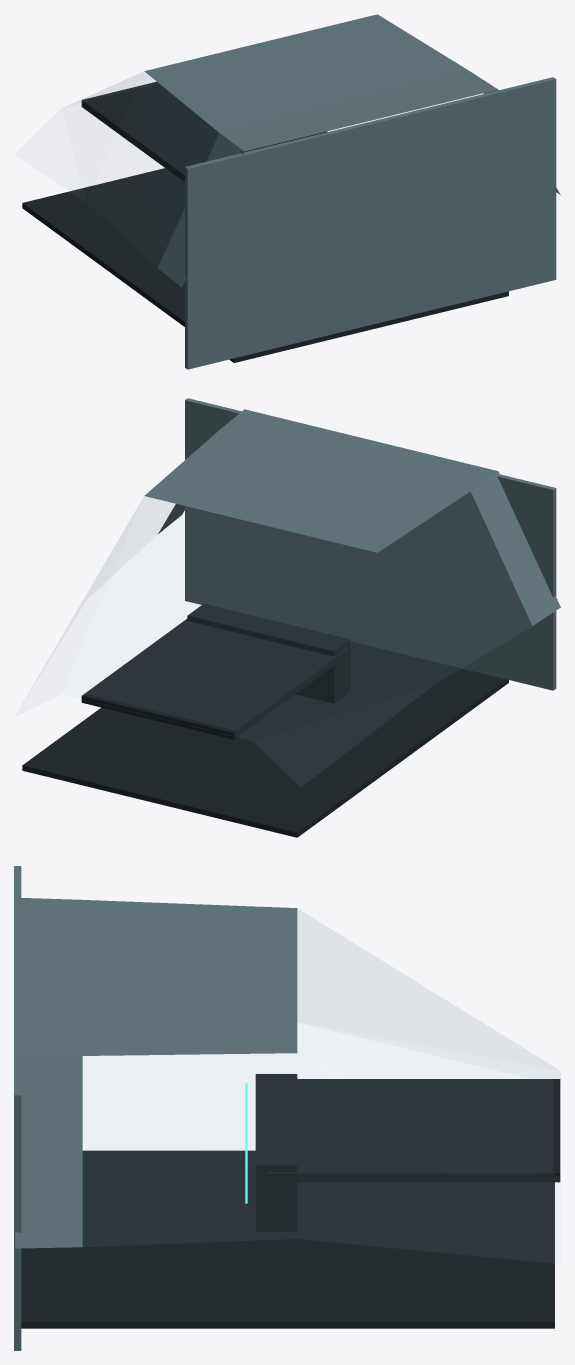
Rendered from hero-cockpit-far.glb.
3 views of the same model, one above another, from view 1: azimuth 30°, elevation 25°; view 2: azimuth 150°, elevation 25°; view 3: azimuth 270°, elevation 25° (orthographic). The views are drawn at different scales.
Parts seen in each view (by area): view 1: hero-cockpit / far; view 2: hero-cockpit / far; view 3: hero-cockpit / far.
Boxes of the visible parts, x1,y1,x2,y2 form: hero-cockpit / far: (22, 14, 560, 369); hero-cockpit / far: (22, 398, 560, 837); hero-cockpit / far: (14, 866, 560, 1350).
Bounding box in the file's own units: 4.55 × 2.4 × 4.46.
